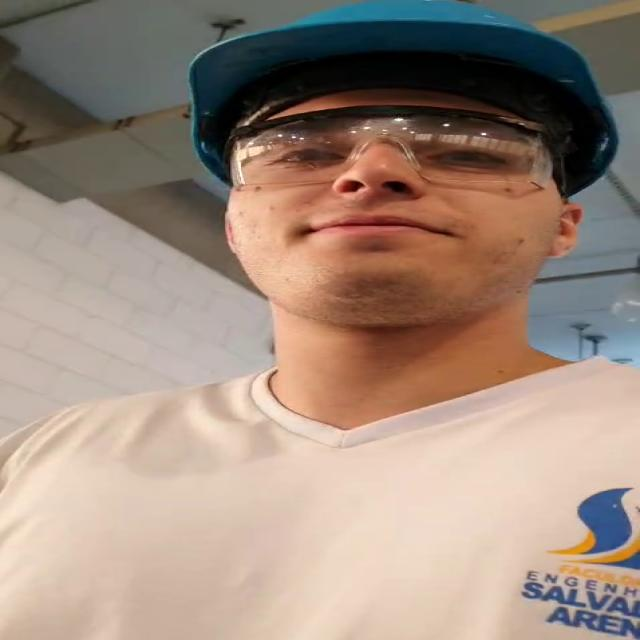oculos-epi: (230, 105, 550, 190)
